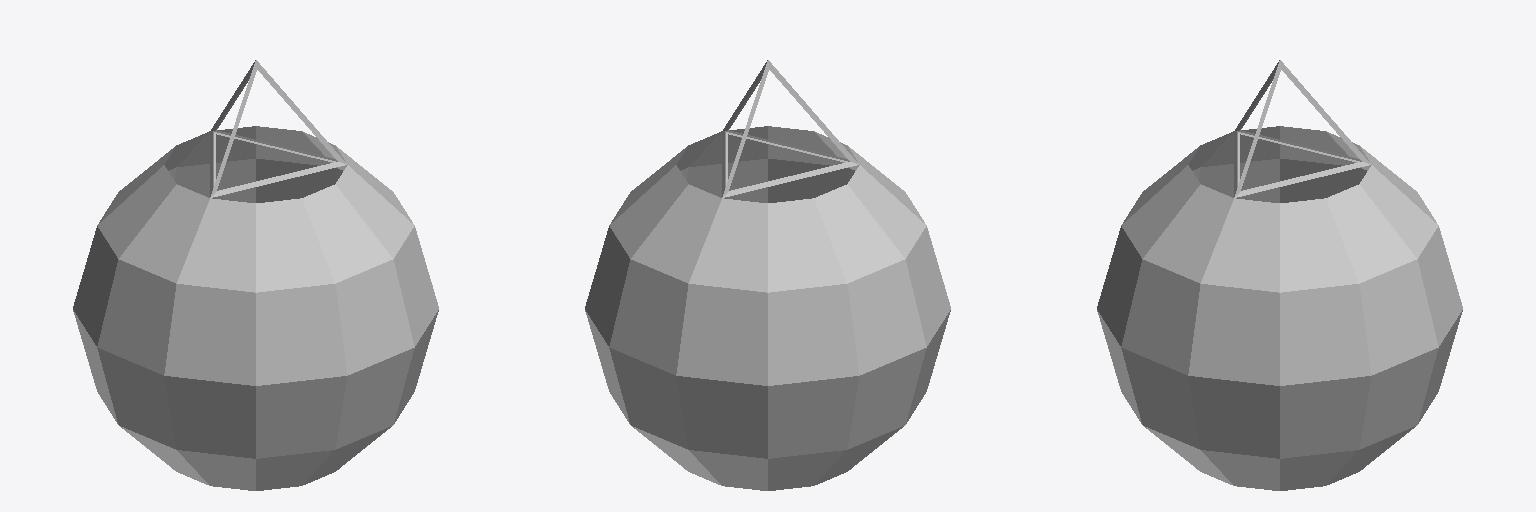
The model's file is round_lantern.obj.
The picture shows the model from 3 angles: view 1: azimuth 30°, elevation 25°; view 2: azimuth 150°, elevation 25°; view 3: azimuth 270°, elevation 25°; orthographic projection.
Parts seen in each view (by area): view 1: RoundLantern, Wire; view 2: RoundLantern, Wire; view 3: RoundLantern, Wire.
Boxes of the visible parts, <box> form: RoundLantern: <box>73,126,438,490</box>; Wire: <box>210,60,346,197</box>; RoundLantern: <box>585,126,950,490</box>; Wire: <box>722,60,858,197</box>; RoundLantern: <box>1097,126,1462,490</box>; Wire: <box>1234,60,1370,197</box>.
Size of the model in its own units: 0.5 by 0.5915 by 0.5.